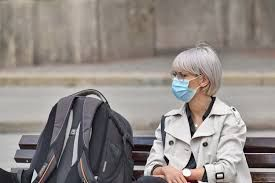with-mask: (169, 47, 224, 104)
